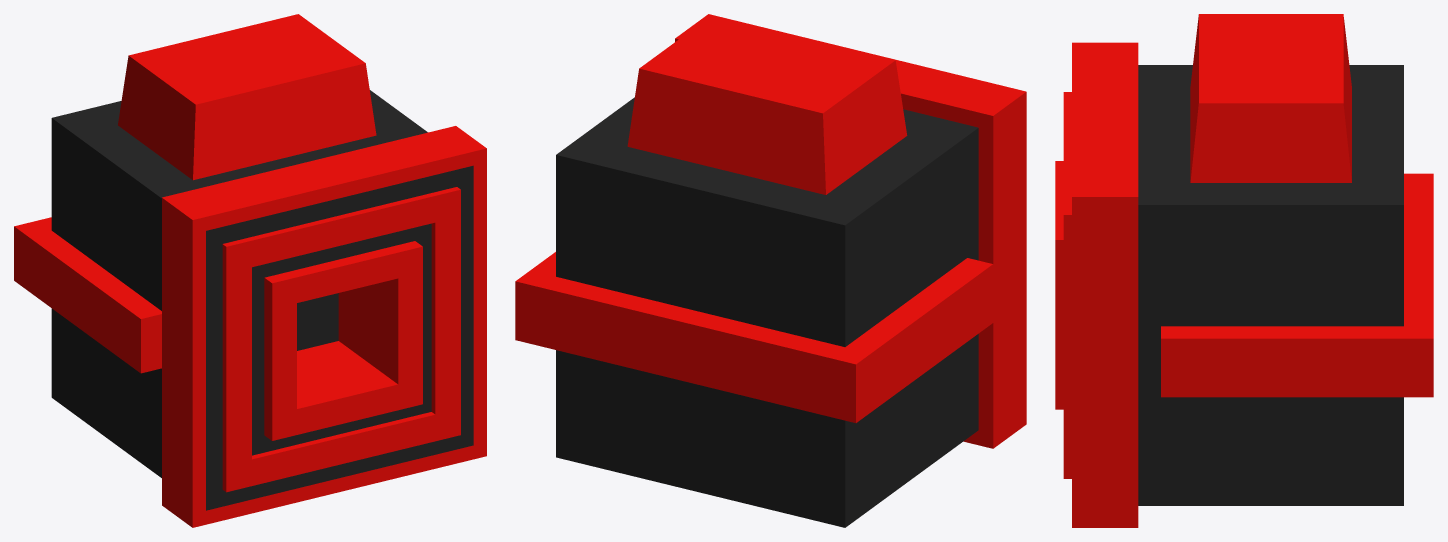
File: Turret.fbx
3 views of the same model, side by side, from view 1: azimuth 30°, elevation 25°; view 2: azimuth 150°, elevation 25°; view 3: azimuth 270°, elevation 25° (orthographic). The views are drawn at different scales.
Visible parts, largest first — view 1: Turret; view 2: Turret; view 3: Turret.
Part boxes in pixels (bbox=[...]): Turret: bbox=[14, 14, 486, 527]; Turret: bbox=[515, 14, 1026, 527]; Turret: bbox=[1055, 14, 1433, 527].
Bounding box in the file's own units: 1.18 × 1.3 × 1.14.
